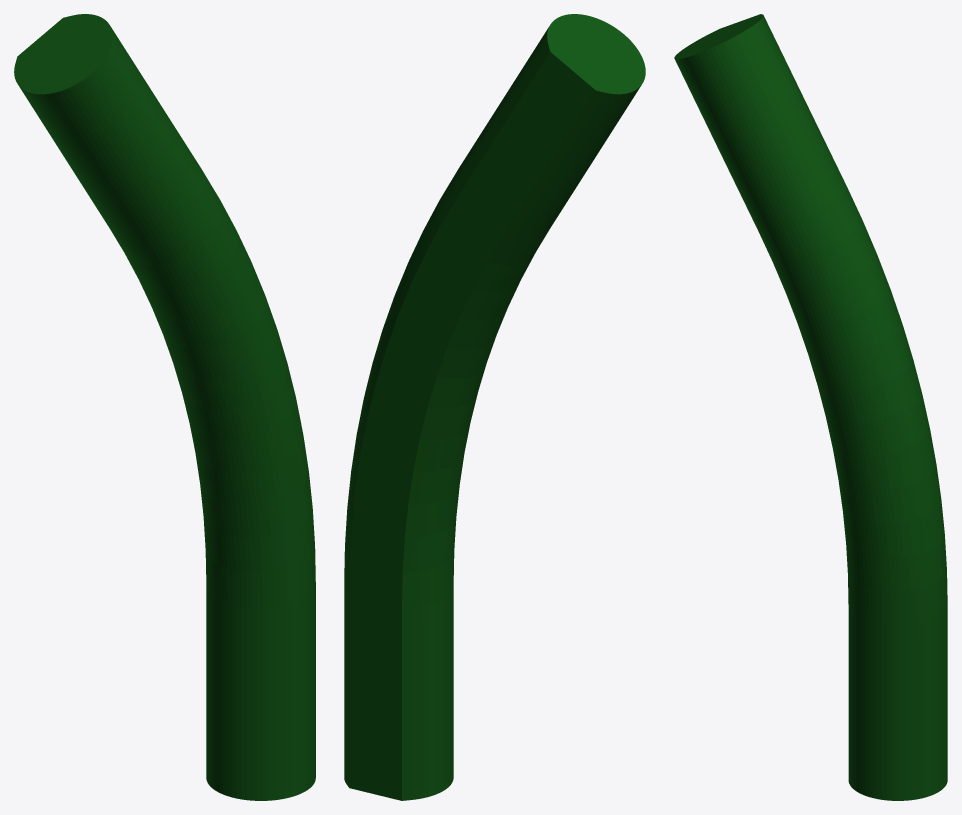
The model's file is stem_1B_30_L.glb.
3 renders of one model, left to right at view 1: azimuth 30°, elevation 25°; view 2: azimuth 150°, elevation 25°; view 3: azimuth 330°, elevation 25°, orthographic. The views are drawn at different scales.
Visible parts, largest first — view 1: stem_1B_30L; view 2: stem_1B_30L; view 3: stem_1B_30L.
Part boxes in pixels (left/top/right/bottom): stem_1B_30L: left=14, top=14, right=315, bottom=800; stem_1B_30L: left=344, top=14, right=645, bottom=800; stem_1B_30L: left=674, top=14, right=947, bottom=800.
Bounding box in the file's own units: 0.0217 × 0.0578 × 0.00666.
